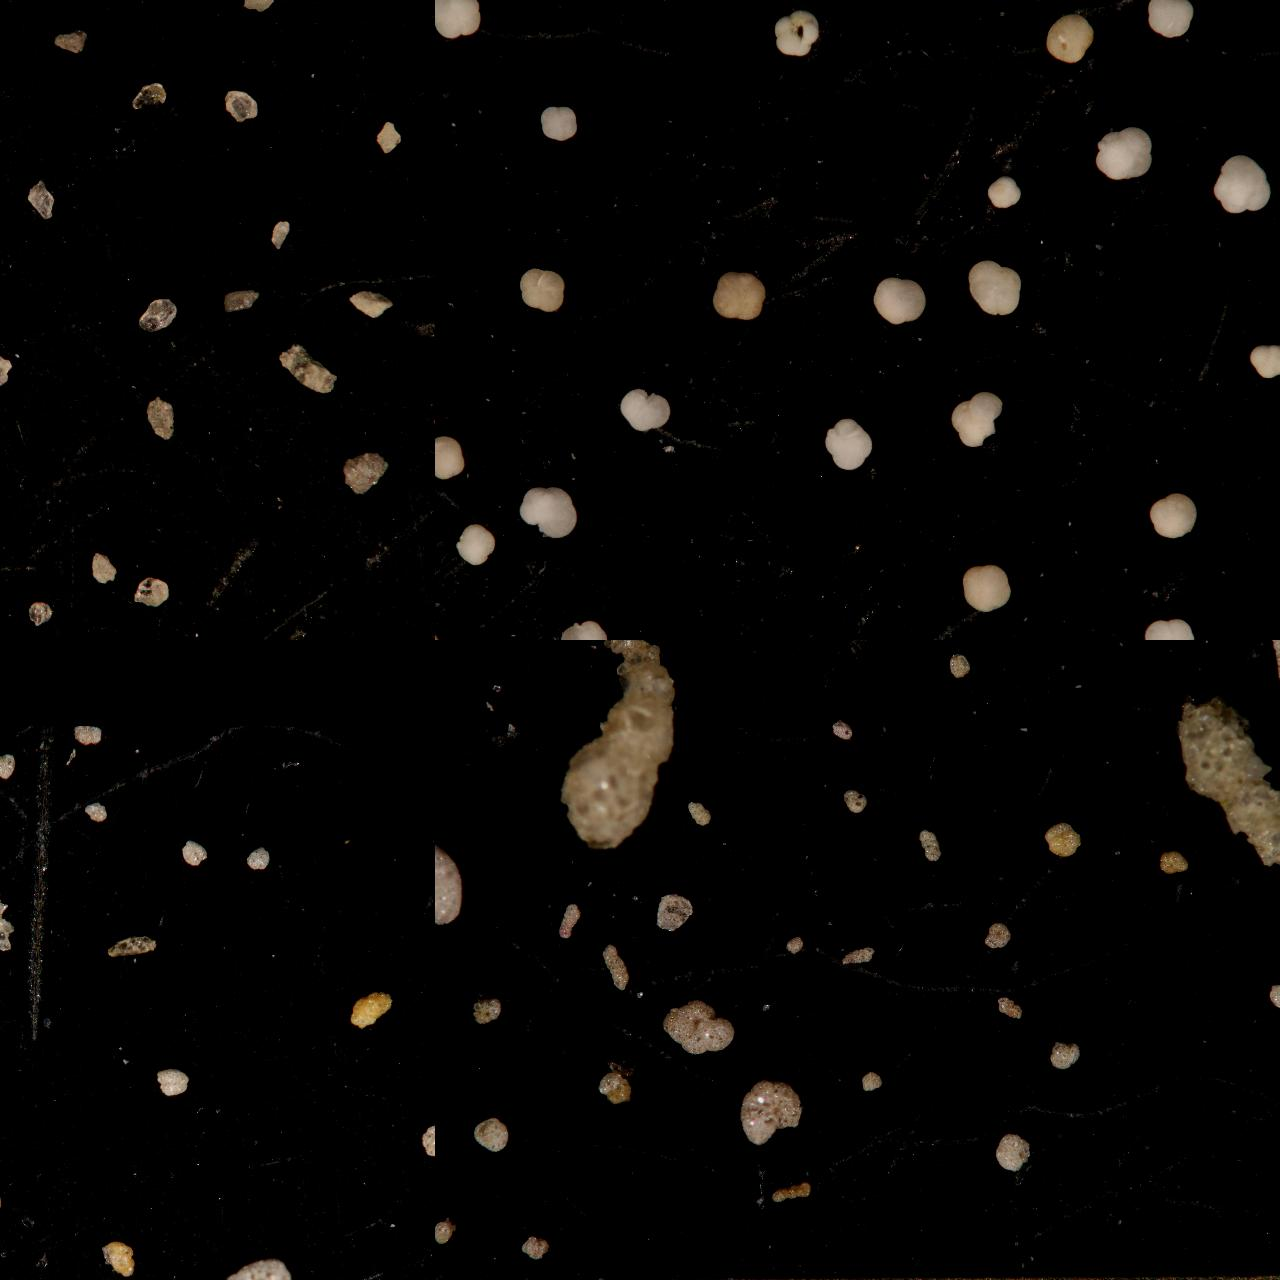Sediment: (275, 343, 339, 395), (340, 450, 389, 497), (0, 0, 36, 50), (0, 570, 29, 626), (346, 287, 395, 320), (142, 397, 176, 441), (136, 300, 178, 333), (222, 89, 260, 124), (130, 577, 171, 610), (25, 179, 55, 223), (0, 0, 30, 42), (129, 82, 169, 111), (222, 288, 261, 316), (373, 122, 403, 156), (52, 28, 90, 54), (0, 229, 21, 275), (89, 552, 117, 586), (0, 211, 23, 250), (0, 98, 22, 138), (0, 305, 21, 343), (0, 130, 22, 166), (67, 0, 107, 18), (0, 205, 18, 245), (26, 602, 54, 627), (267, 222, 291, 251), (0, 565, 18, 602), (0, 114, 22, 142), (0, 355, 18, 390), (0, 437, 18, 470), (0, 6, 19, 36), (241, 0, 275, 16), (0, 438, 18, 470), (0, 236, 18, 267), (0, 23, 13, 64), (0, 0, 22, 23), (0, 568, 18, 597), (0, 492, 15, 524), (124, 0, 155, 15), (0, 463, 15, 493), (0, 229, 16, 256), (0, 621, 23, 640), (0, 518, 12, 552), (362, 0, 390, 14), (0, 356, 14, 384), (0, 379, 15, 404), (0, 0, 16, 21), (0, 595, 14, 620), (233, 0, 263, 12), (0, 159, 14, 183), (0, 0, 15, 20), (0, 0, 15, 14), (0, 633, 15, 640)
agglutinated: (560, 640, 674, 847), (1177, 699, 1280, 866), (808, 640, 896, 717), (435, 837, 484, 925), (740, 1081, 802, 1145), (661, 1000, 735, 1054), (435, 798, 485, 847), (0, 878, 26, 954), (213, 1259, 302, 1280), (350, 990, 392, 1029), (994, 1135, 1030, 1171), (656, 896, 692, 933), (100, 1241, 136, 1276), (601, 946, 629, 990), (1044, 823, 1080, 857), (104, 938, 159, 959), (474, 1118, 509, 1151), (597, 1074, 632, 1104), (155, 1069, 190, 1097), (1050, 1041, 1080, 1071), (435, 1087, 455, 1130), (455, 640, 497, 660), (0, 1211, 21, 1250), (471, 998, 501, 1024), (558, 904, 580, 938), (179, 840, 209, 866), (917, 831, 941, 862), (770, 1184, 810, 1203), (520, 1235, 550, 1260), (435, 693, 456, 724), (985, 922, 1009, 949), (1159, 852, 1187, 874), (948, 654, 972, 680), (70, 727, 102, 745), (998, 998, 1022, 1021), (843, 790, 867, 813), (686, 803, 710, 825), (82, 803, 108, 824), (0, 1192, 18, 1223), (0, 971, 18, 1000), (840, 949, 873, 965), (435, 734, 451, 764), (435, 1220, 456, 1244), (0, 1141, 16, 1170), (567, 640, 598, 655), (1269, 640, 1280, 683), (247, 847, 268, 869), (421, 1126, 435, 1157), (435, 721, 449, 751), (832, 720, 852, 741), (0, 869, 15, 896), (860, 1073, 881, 1091), (0, 754, 15, 779), (646, 640, 665, 660), (945, 640, 978, 651), (1033, 640, 1061, 652), (690, 640, 729, 648), (0, 983, 13, 1007), (435, 964, 448, 987), (0, 1102, 12, 1126), (787, 938, 804, 954), (1269, 983, 1280, 1009), (0, 1073, 11, 1092), (435, 640, 454, 651), (723, 640, 745, 648), (435, 640, 445, 651)
planktic: (1212, 154, 1274, 216), (1094, 123, 1152, 183), (948, 390, 1005, 450), (517, 484, 578, 539), (967, 259, 1023, 316), (869, 273, 927, 327), (709, 268, 767, 321), (1042, 11, 1096, 64), (821, 417, 873, 472), (769, 9, 823, 59), (960, 564, 1012, 614), (1146, 491, 1198, 540), (618, 387, 672, 434), (518, 267, 566, 314), (1143, 0, 1194, 39), (435, 0, 483, 41), (452, 524, 496, 566), (435, 309, 465, 368), (435, 211, 463, 271), (537, 105, 579, 143), (435, 434, 467, 481), (983, 175, 1022, 209), (435, 88, 459, 141), (1247, 343, 1280, 380), (435, 72, 459, 118), (1142, 619, 1196, 640), (557, 619, 610, 640), (435, 239, 459, 284), (435, 513, 458, 559), (435, 443, 458, 488), (435, 615, 464, 640), (435, 147, 448, 175), (735, 0, 777, 8)
